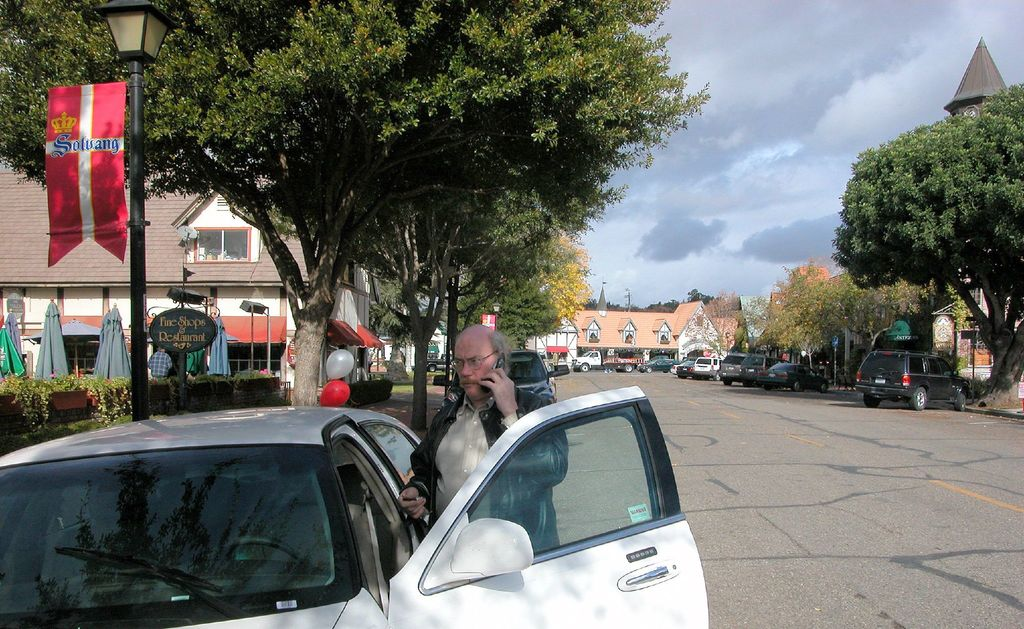Car: (0, 380, 711, 628), (432, 339, 570, 418), (861, 343, 961, 411), (753, 359, 826, 399), (710, 351, 766, 384), (689, 354, 723, 383), (638, 354, 688, 372), (669, 358, 695, 380)
